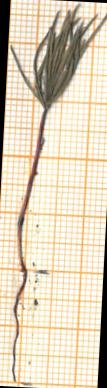flower: (5, 0, 107, 112)
root: (6, 268, 37, 382)
stem: (12, 108, 48, 270)
